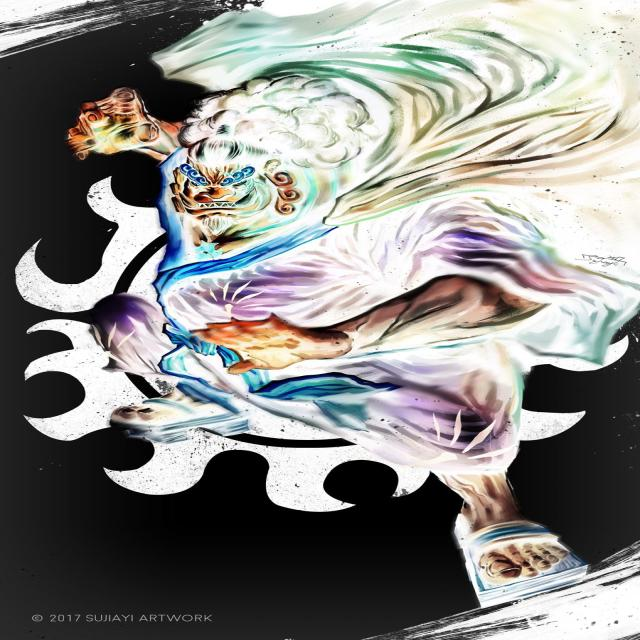Jinbe: (15, 0, 640, 621)
